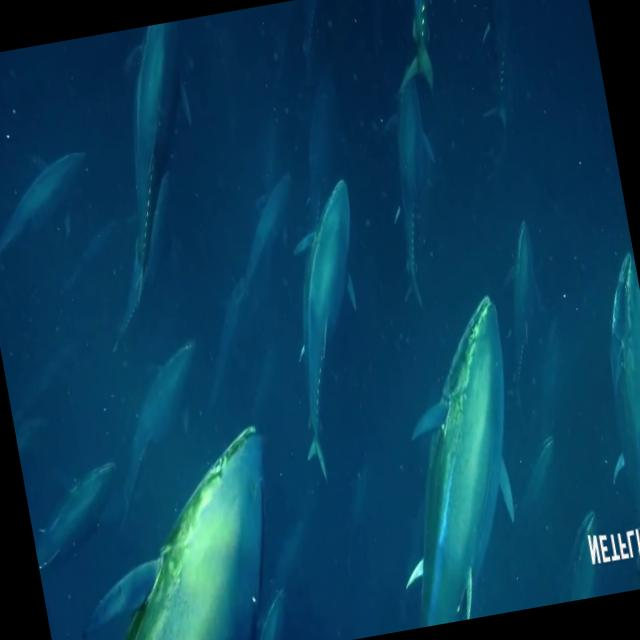fish: (364, 291, 548, 623), (64, 21, 228, 340), (65, 427, 298, 640), (262, 177, 400, 482), (581, 245, 640, 580)
